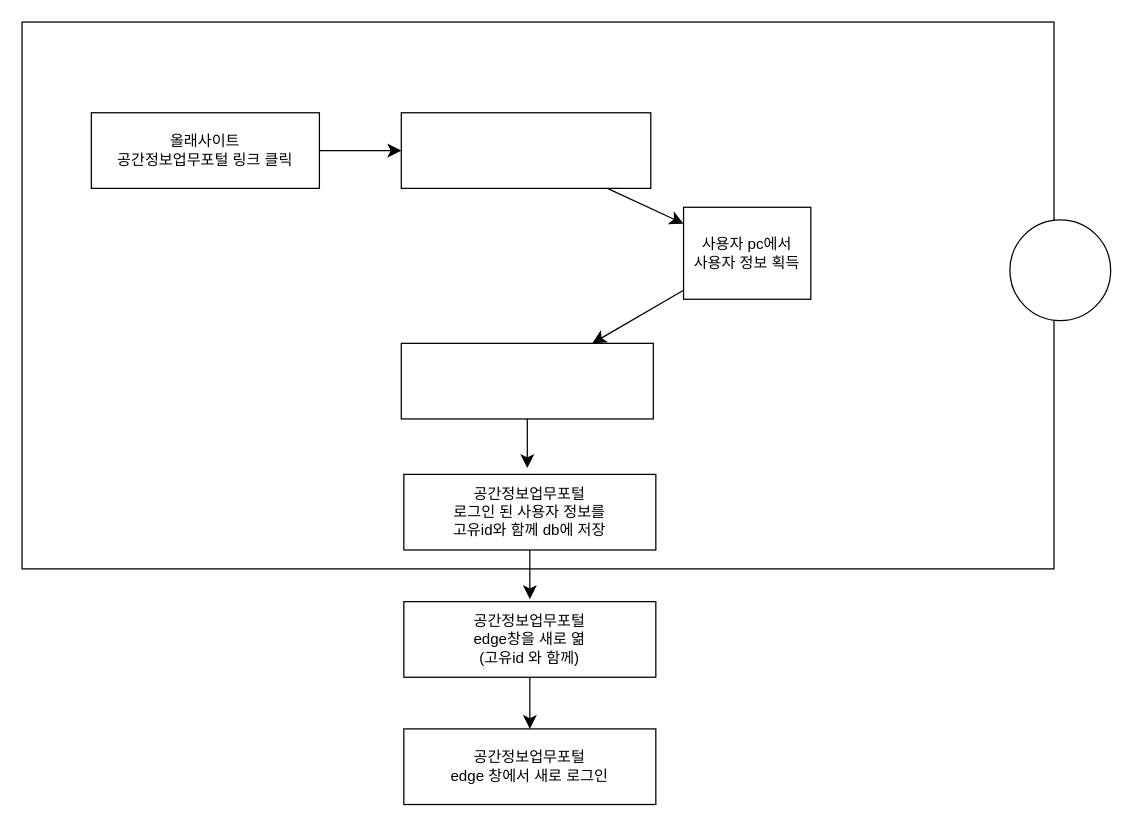
Image size: 1133x827. Some labels were removed from this diagram. Each missing label, with the centre of its shape:
"IE 모드" belongs at (x=1060, y=270).
"공간정보업무포털 magicsso/connect.jsp 실행" belongs at (x=525, y=150).
"공간정보업무포털 사용자 정보를 세션에 저장" belongs at (x=526, y=380).
